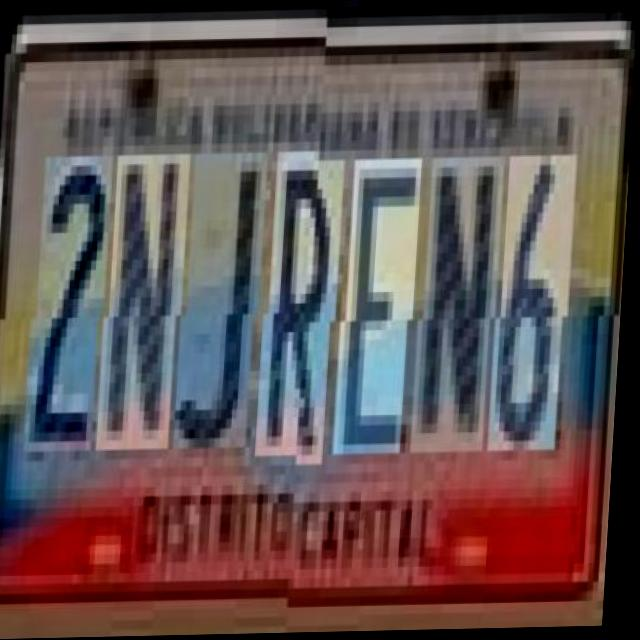2: (33, 166, 115, 462)
6: (498, 158, 580, 454)
e: (344, 160, 424, 457)
j: (183, 163, 269, 459)
n: (106, 165, 192, 461), (421, 159, 507, 455)
r: (266, 162, 348, 467)
